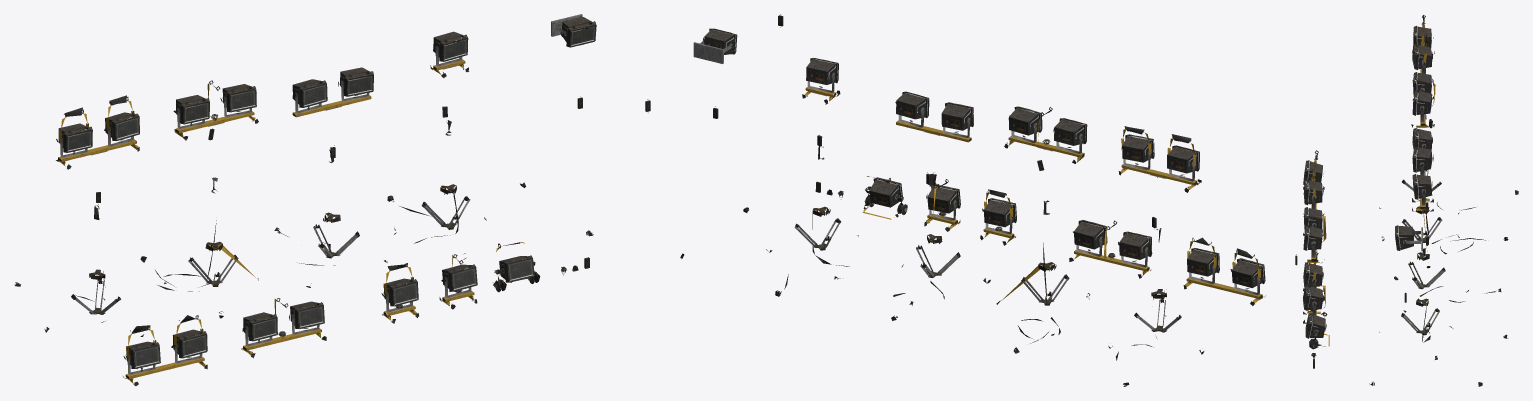
The model's file is ph_flood_lights.glb.
The picture shows the model from 3 angles, left to right: view 1: azimuth 30°, elevation 25°; view 2: azimuth 150°, elevation 25°; view 3: azimuth 270°, elevation 25°; orthographic projection. The views are drawn at different scales.
Visible parts, largest first — view 1: flood_lights_cable_a_geo; view 2: flood_lights_cable_a_geo; view 3: flood_lights_cable_a_geo.
Part boxes in pixels (x1,y1,x2,y2): flood_lights_cable_a_geo: (14, 14, 650, 385); flood_lights_cable_a_geo: (680, 14, 1265, 386); flood_lights_cable_a_geo: (1295, 15, 1518, 386).
Size of the model in its own units: 4.57 by 1.81 by 2.04.
Materials: 2 (2 with a texture image).
